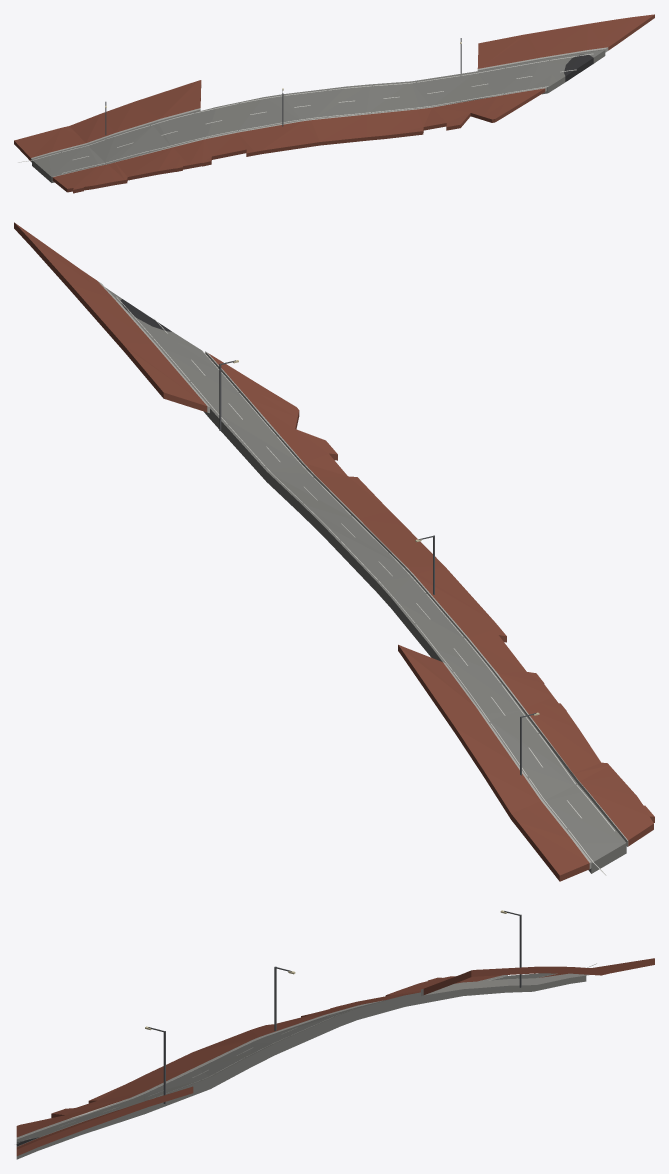
The model's file is 18-218857-118956.4cae0183.glb.
3 views of the same model, one above another, from view 1: azimuth 30°, elevation 25°; view 2: azimuth 150°, elevation 25°; view 3: azimuth 270°, elevation 25° (orthographic). The views are drawn at different scales.
Size of the model in its own units: 101 by 29.25 by 60.2.
